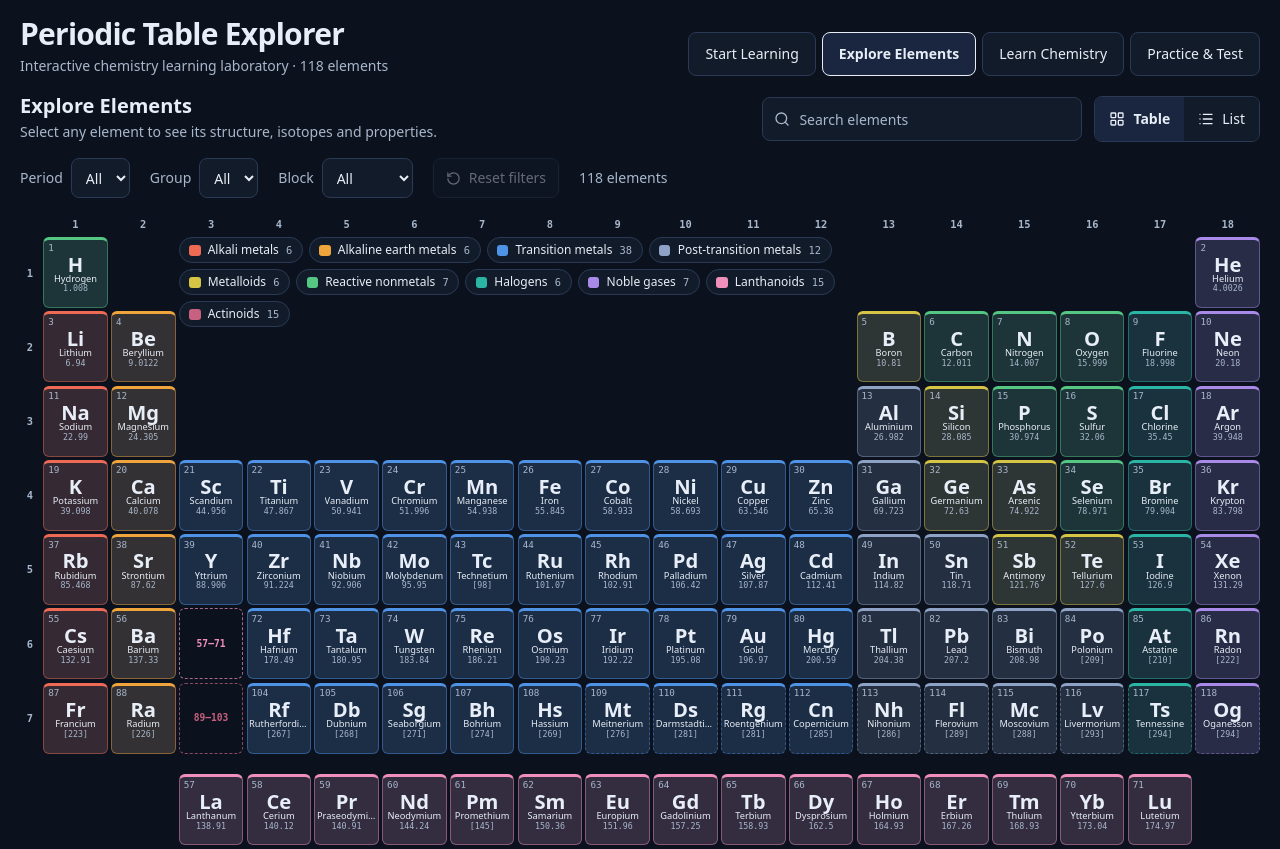
selection, URL and layout › opens a modal sheet instead of a docked panel on narrower screens
Click the button "6 C Carbon 12.011": [957, 347] box [924,311,989,382]
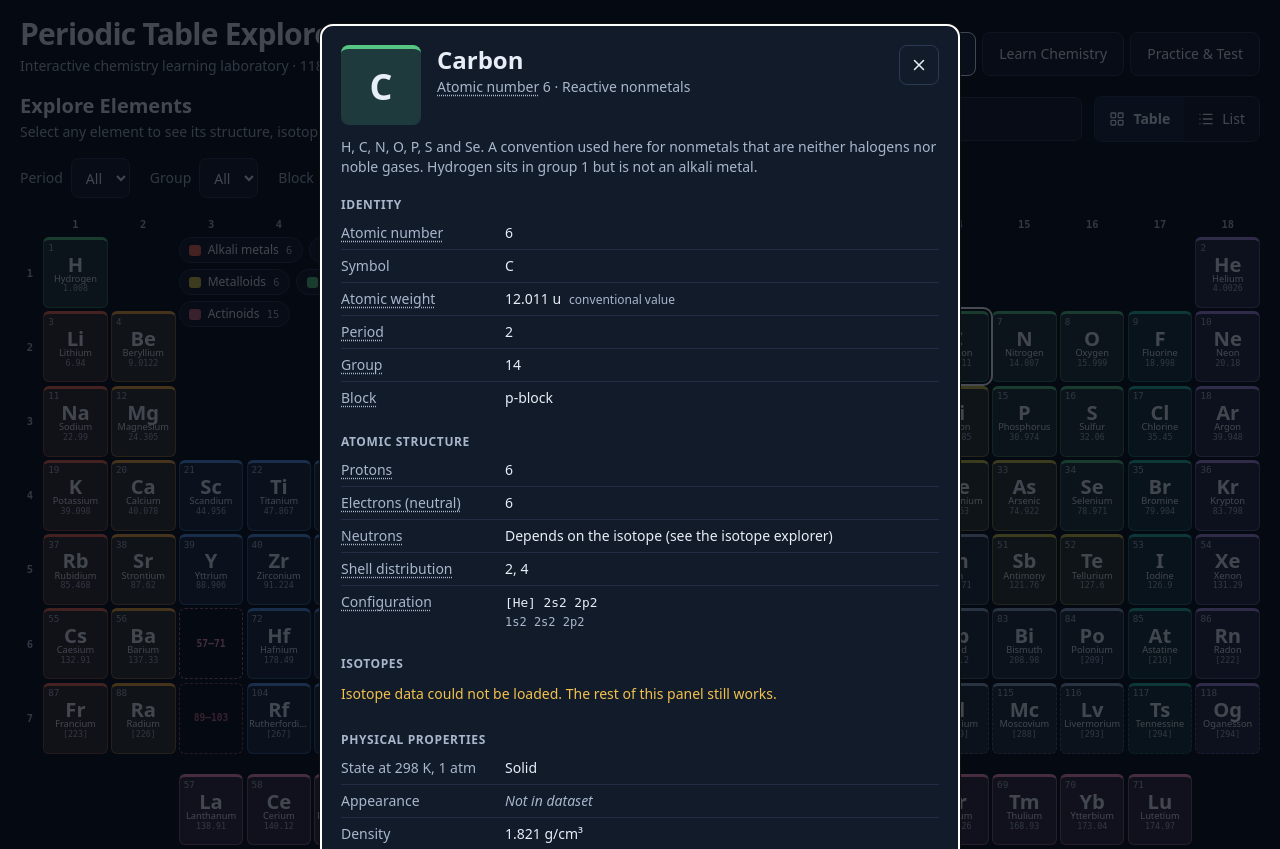
Now the heading "Carbon" is shown, box [437,43,524,76]
